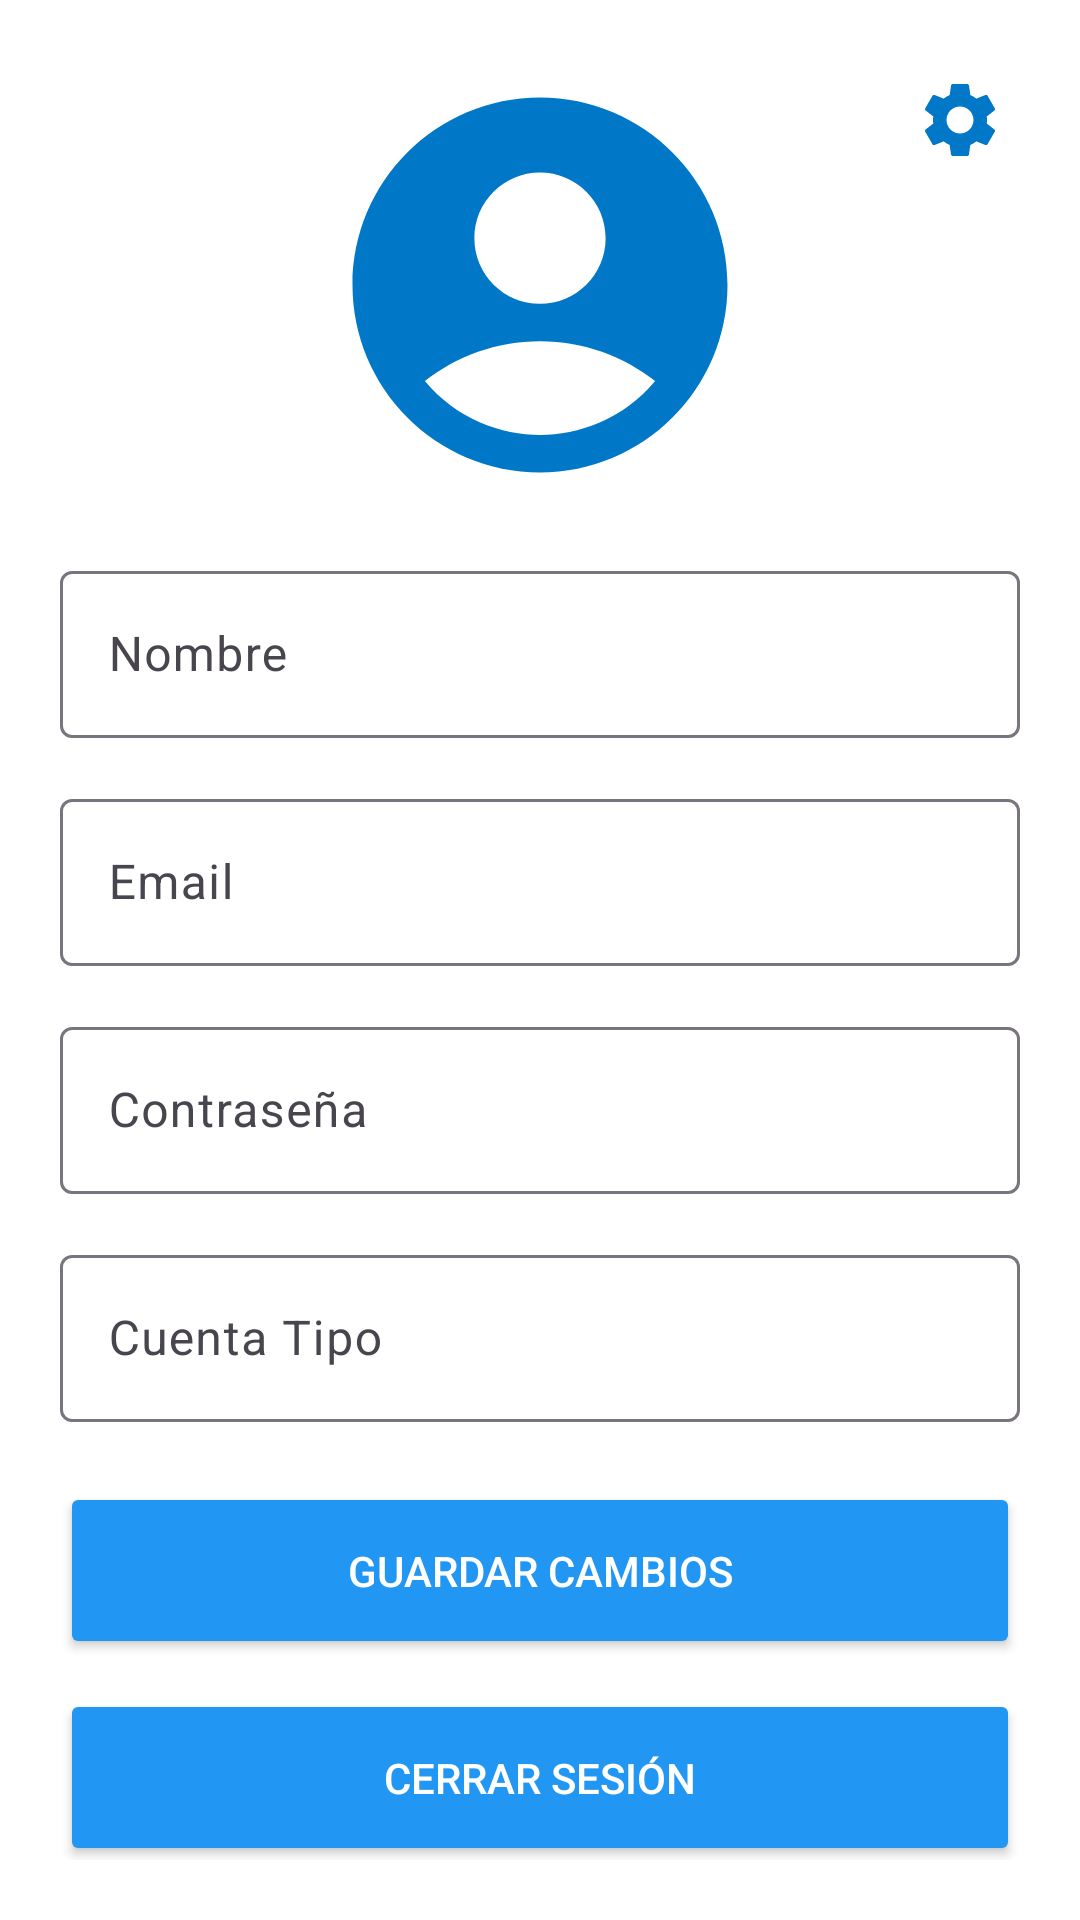

Locate icon controls on the screen. Image size 1080w x 1920h, boxes as rect(x1, y1, x2, y2).
settings: rect(925, 84, 995, 156)
